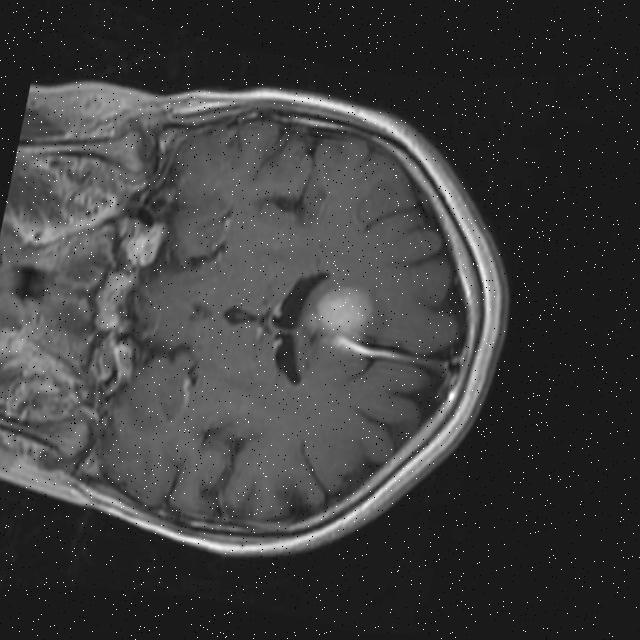Meningioma: (305, 277, 387, 356)
Pituitary: (91, 267, 135, 334)
